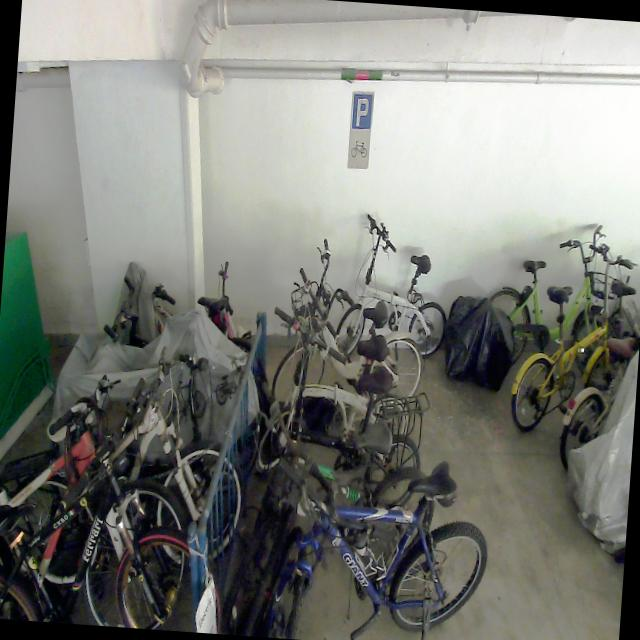bike: (0, 366, 240, 634), (12, 336, 251, 602), (0, 367, 199, 631), (235, 445, 493, 640), (252, 360, 425, 540), (255, 304, 416, 481), (270, 234, 430, 412), (480, 218, 632, 392), (509, 237, 640, 436), (334, 210, 454, 360)
